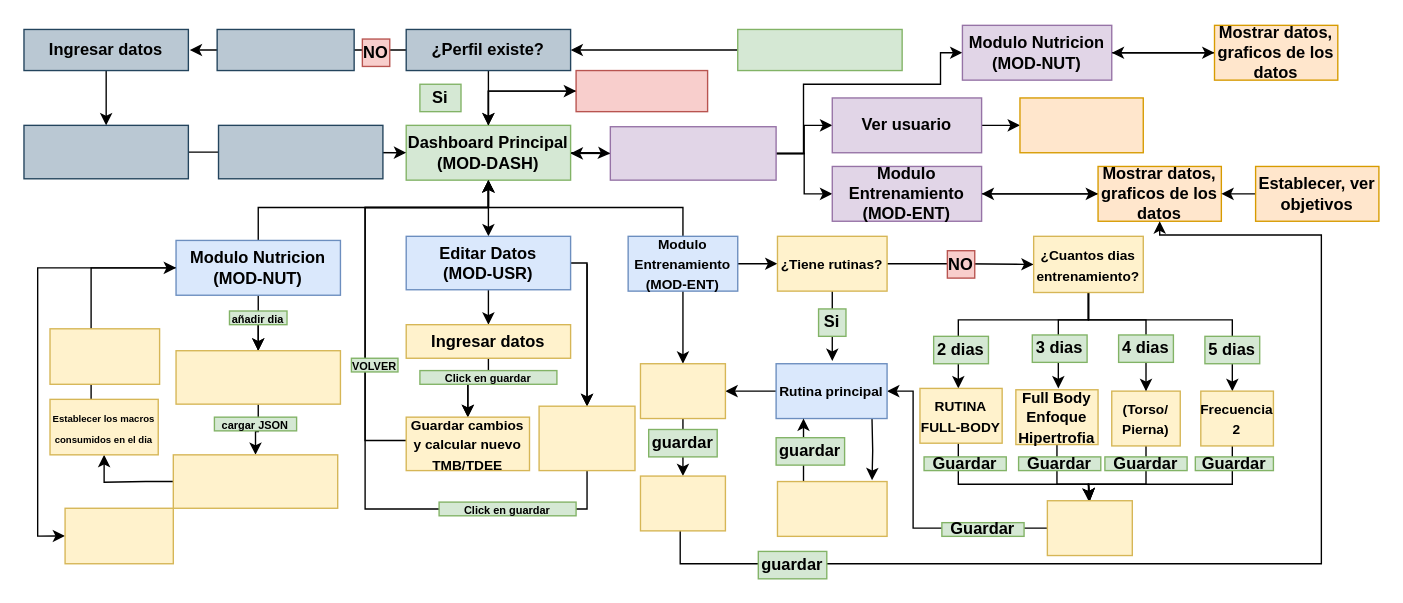
The diagram is 1403 pixels wide and 603 high, and some of its shapes have lost their labels. Each missing label, with the centre of its shape:
Añadir alimentos consumido: [257,376]
Calcular Tanaka/1RM: [1089,527]
Calcular TMB/TDEE: [105,151]
Creacion de perfil (Guardar): [300,151]
Editar metas, objetivos: [586,438]
Guardar log comida consumida con sus macros: [104,355]
Historial sesiones completas: [682,503]
Iniciar aplicacion: [819,49]
modificar rutina: [831,508]
Modulo Perfil (MOD-USR): [285,49]
Mostrar datos del usuario: [1081,125]
Registrar sesion: [682,390]
Salir aplicacion: [641,90]
Seccion graficos: [692,152]
Sumar macros del alimento en la "tarjeta" dia: [255,480]
Ver historial de consumo: [118,535]
